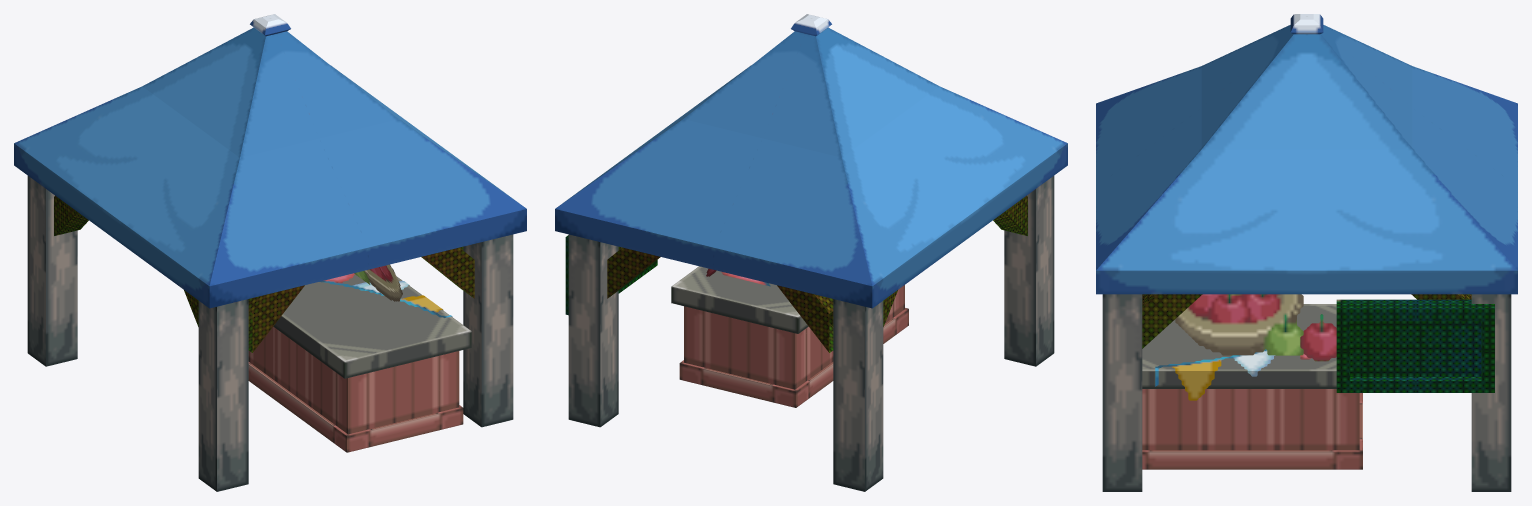
The model's file is Prp_3D_BazaarStall4.fbx.
3 renders of one model, left to right at view 1: azimuth 30°, elevation 25°; view 2: azimuth 150°, elevation 25°; view 3: azimuth 270°, elevation 25°, orthographic. The views are drawn at different scales.
Parts seen in each view (by area): view 1: BazaarStall4; view 2: BazaarStall4; view 3: BazaarStall4.
Boxes of the visible parts, x1=… form: BazaarStall4: x1=14, y1=14, x2=526, y2=491; BazaarStall4: x1=555, y1=14, x2=1067, y2=491; BazaarStall4: x1=1096, y1=14, x2=1517, y2=491.
Bounding box in the file's own units: 353 × 391 × 376.
